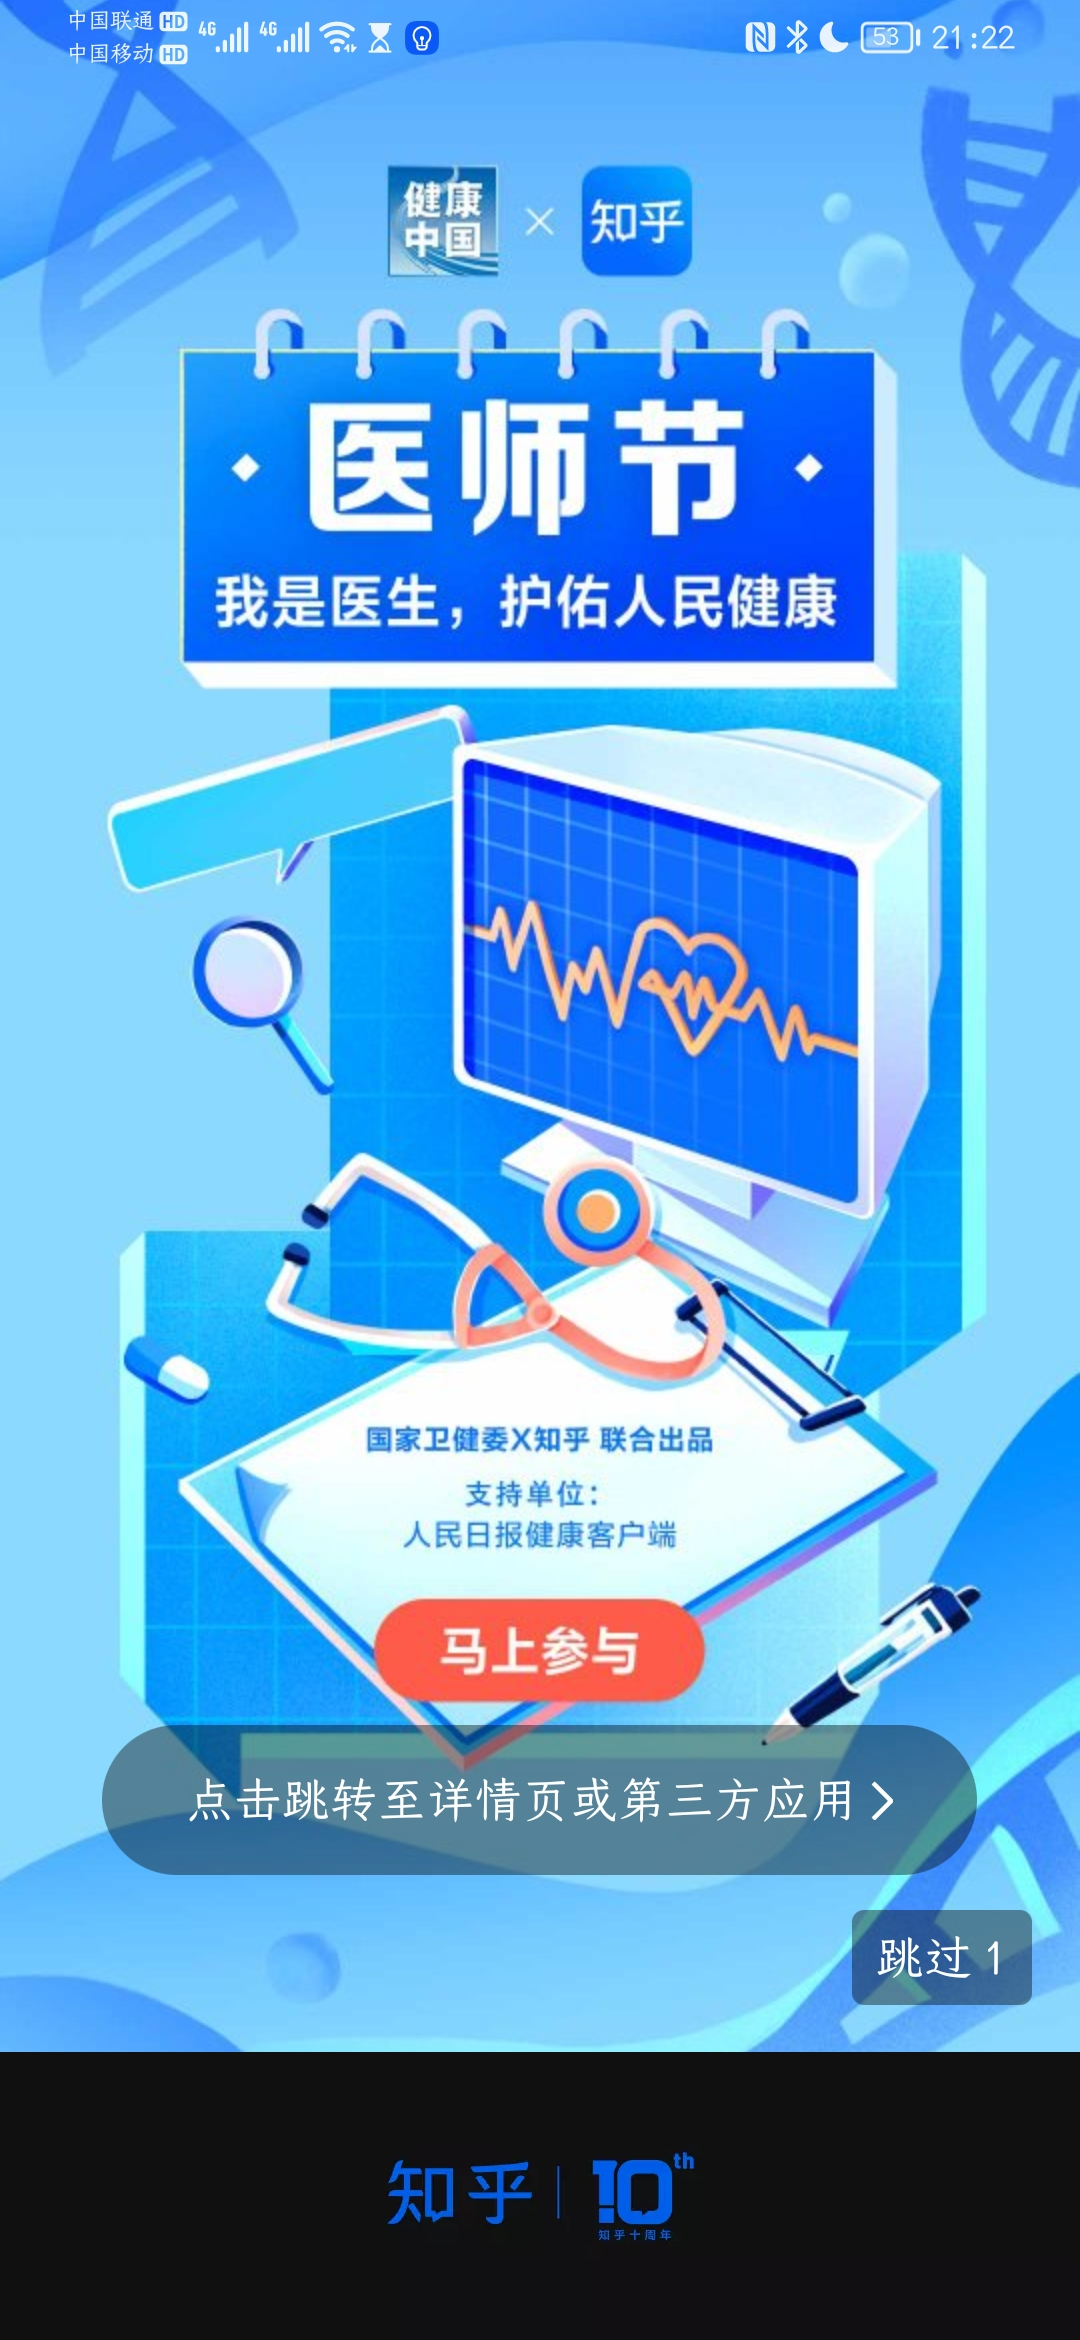skip: (852, 1915, 1023, 2006)
